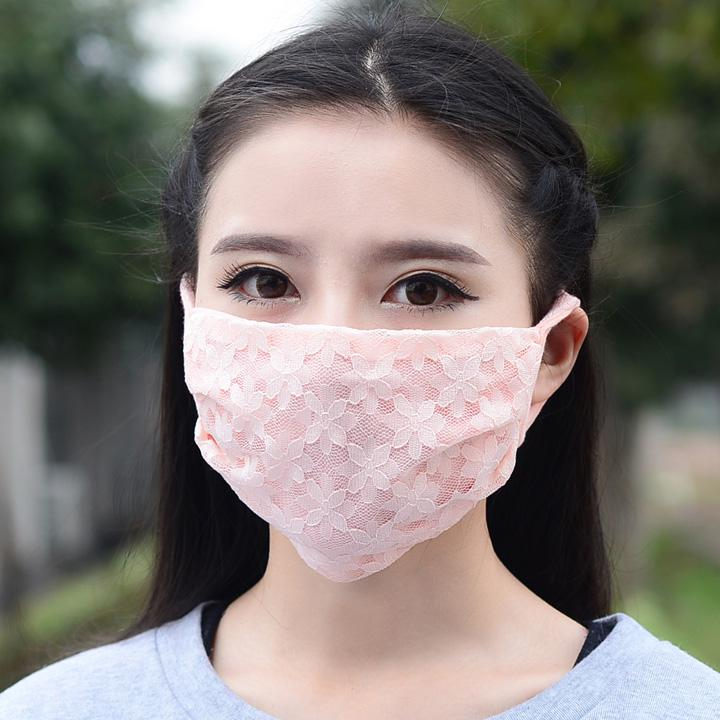OK: (189, 225, 519, 555)
